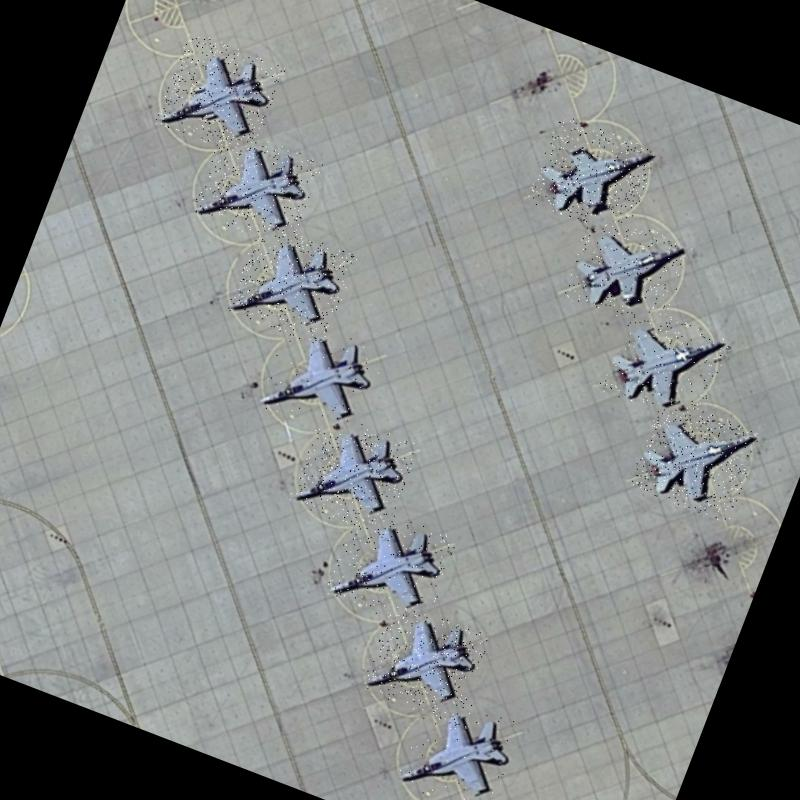A16: (324, 500, 460, 633), (628, 395, 764, 524), (287, 408, 419, 539), (226, 218, 358, 348), (154, 30, 286, 160), (255, 313, 388, 442), (190, 123, 324, 250), (560, 206, 694, 332), (597, 301, 731, 427), (360, 598, 491, 726), (526, 113, 658, 239), (391, 688, 523, 800)
